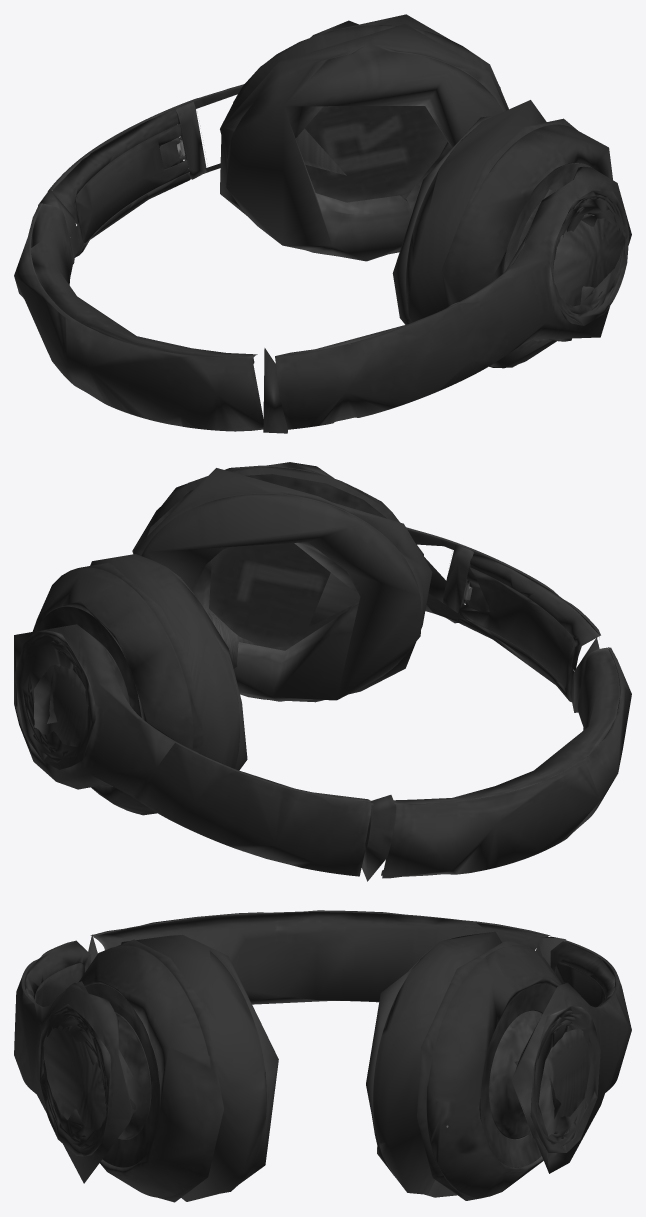
The model's file is misc_headphones_a01.glb.
3 renders of one model, top to bottom at view 1: azimuth 30°, elevation 25°; view 2: azimuth 150°, elevation 25°; view 3: azimuth 270°, elevation 25°, orthographic. The views are drawn at different scales.
Visible parts, largest first — view 1: sm_misc_headphones_a01_01; view 2: sm_misc_headphones_a01_01; view 3: sm_misc_headphones_a01_01.
Part boxes in pixels (box(x1,y1,x2,y2)): sm_misc_headphones_a01_01: box(14, 14, 631, 433); sm_misc_headphones_a01_01: box(14, 462, 631, 881); sm_misc_headphones_a01_01: box(14, 910, 631, 1202).
Size of the model in its own units: 0.194 by 0.0879 by 0.1922.
3 materials, 3 textured.
